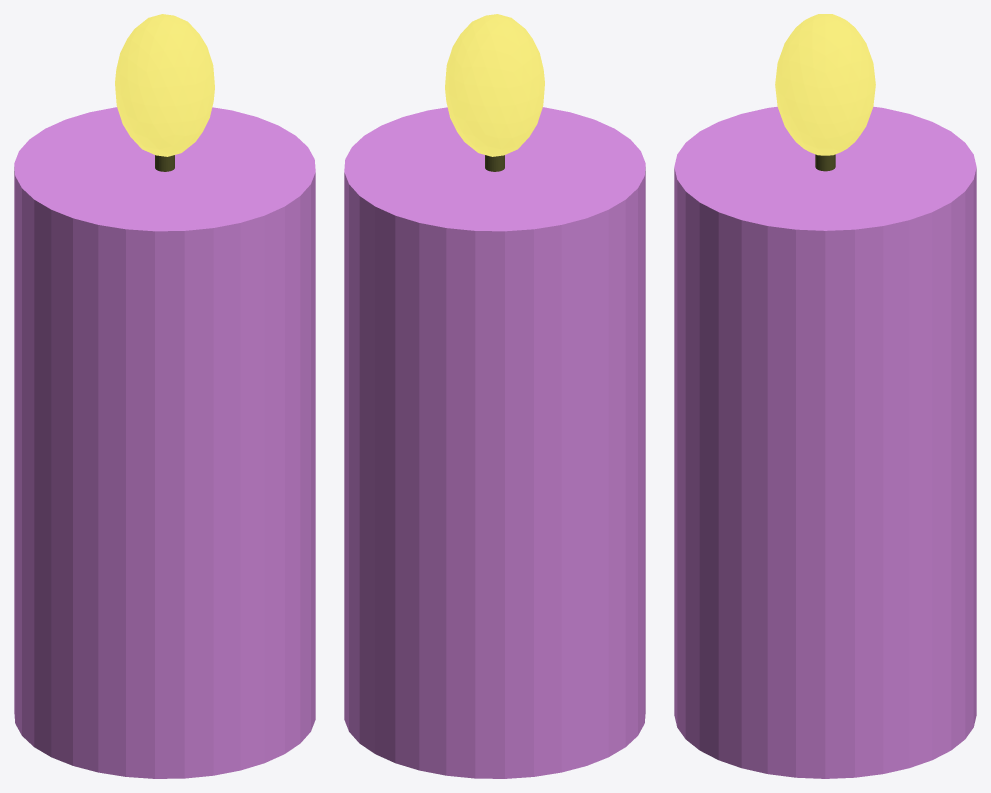
3 renders of one model, left to right at view 1: azimuth 30°, elevation 25°; view 2: azimuth 150°, elevation 25°; view 3: azimuth 270°, elevation 25°, orthographic.
Visible parts, largest first — view 1: Candle_Body, Flame; view 2: Candle_Body, Flame; view 3: Candle_Body, Flame.
Boxes of the visible parts, box(x1,y1,x2,y2) form: Candle_Body: box(14, 107, 315, 778); Flame: box(115, 14, 214, 156); Candle_Body: box(344, 107, 645, 778); Flame: box(445, 14, 544, 156); Candle_Body: box(674, 106, 976, 778); Flame: box(775, 14, 875, 155).
Size of what is drawn, in the model's own units: 0.3 by 0.765 by 0.3.
